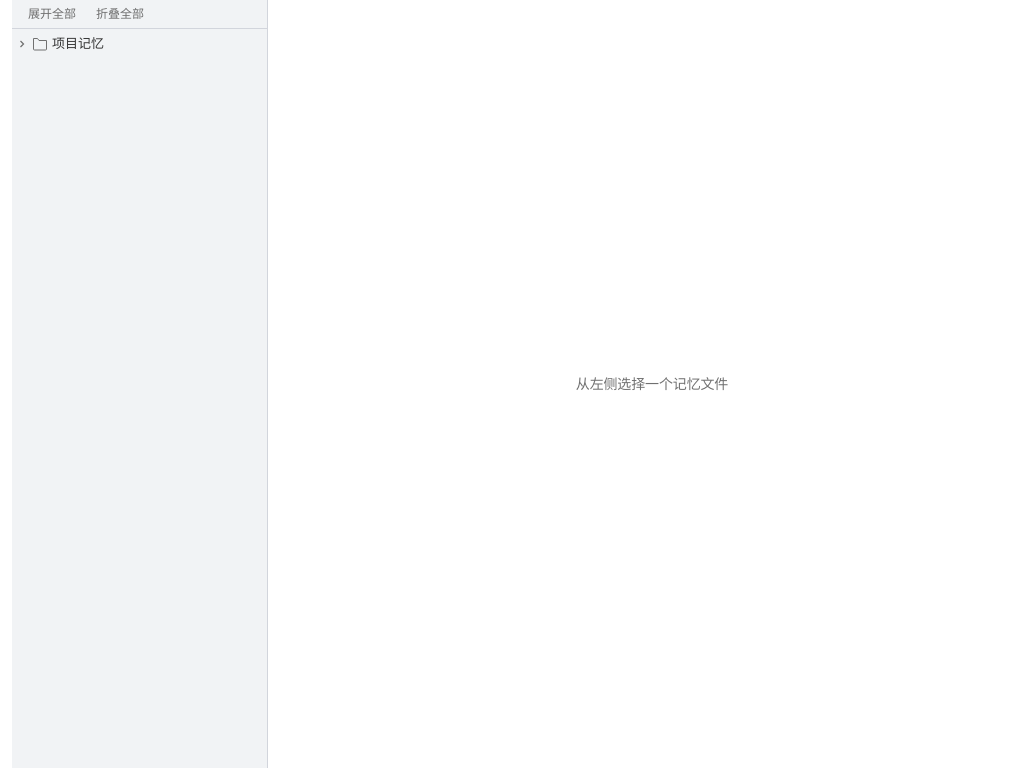
Test: MemoryManagerDialog › edge: archive folder collapses by default and expands to show archive files
Check: the text "项目记忆" is shown, box [52,35,104,52]
默认全折叠：逐级展开「项目记忆」根 → hclaw 项目 → 归档卷可见；归档卷自身默认折叠
Click the list item "项目记忆": (140,44) [12,33,267,55]
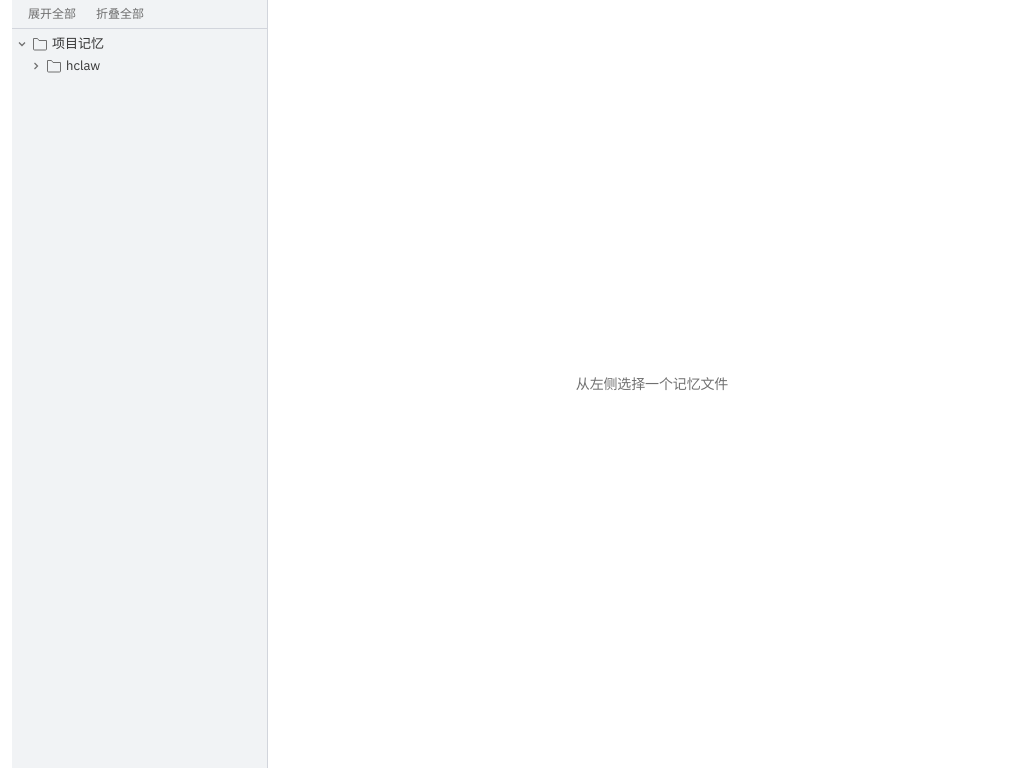
Check: the text "hclaw" is shown, box [66,57,100,74]
Click the list item "hclaw": (140,66) [12,55,267,77]
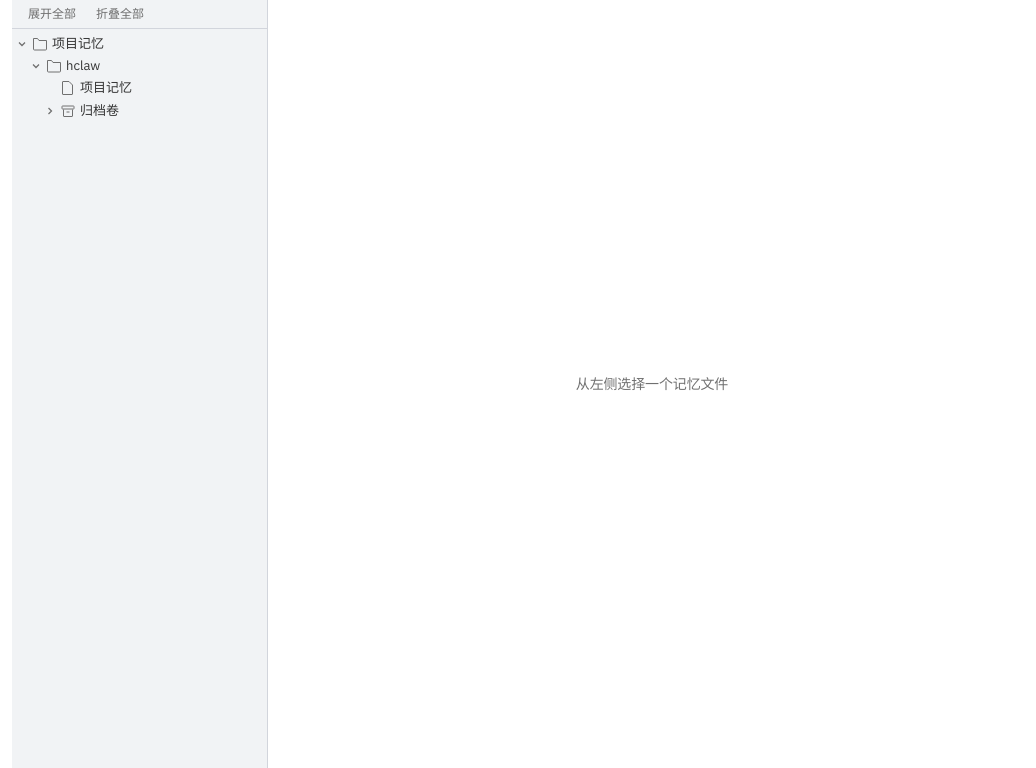
Check: the text "OpenRouter 专项" is not shown
Check: the text "归档卷" is shown, box [80,102,119,119]
Click the list item "归档卷": (140,111) [12,100,267,122]
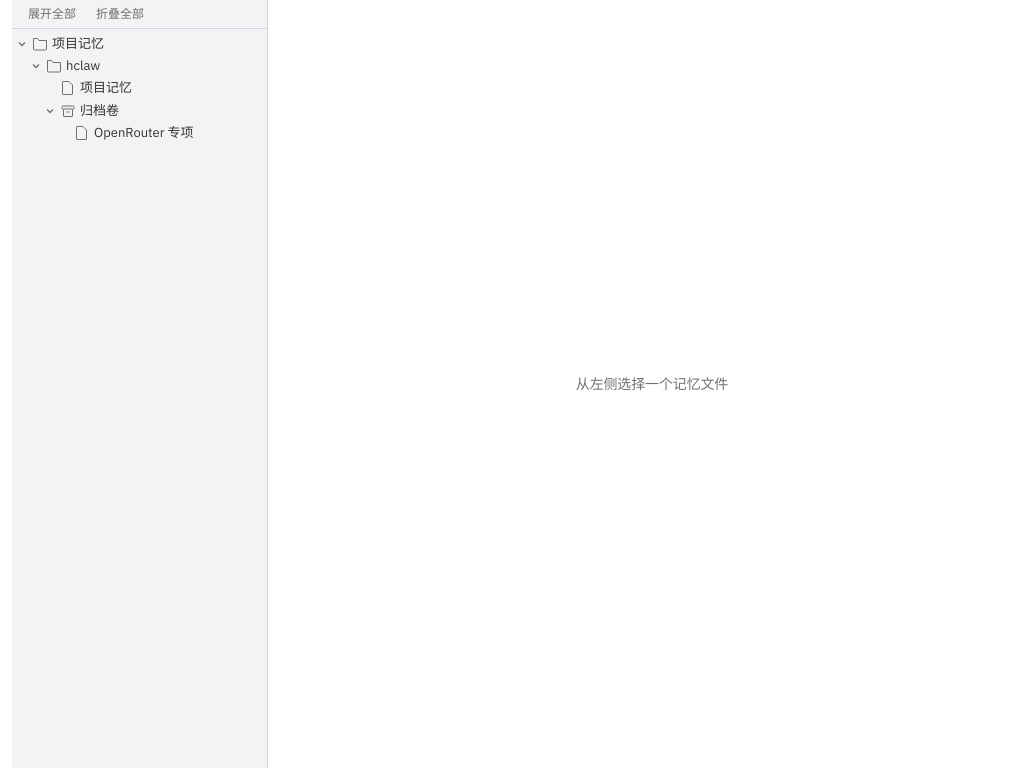
Check: the text "OpenRouter 专项" is shown, box [94,124,194,141]
